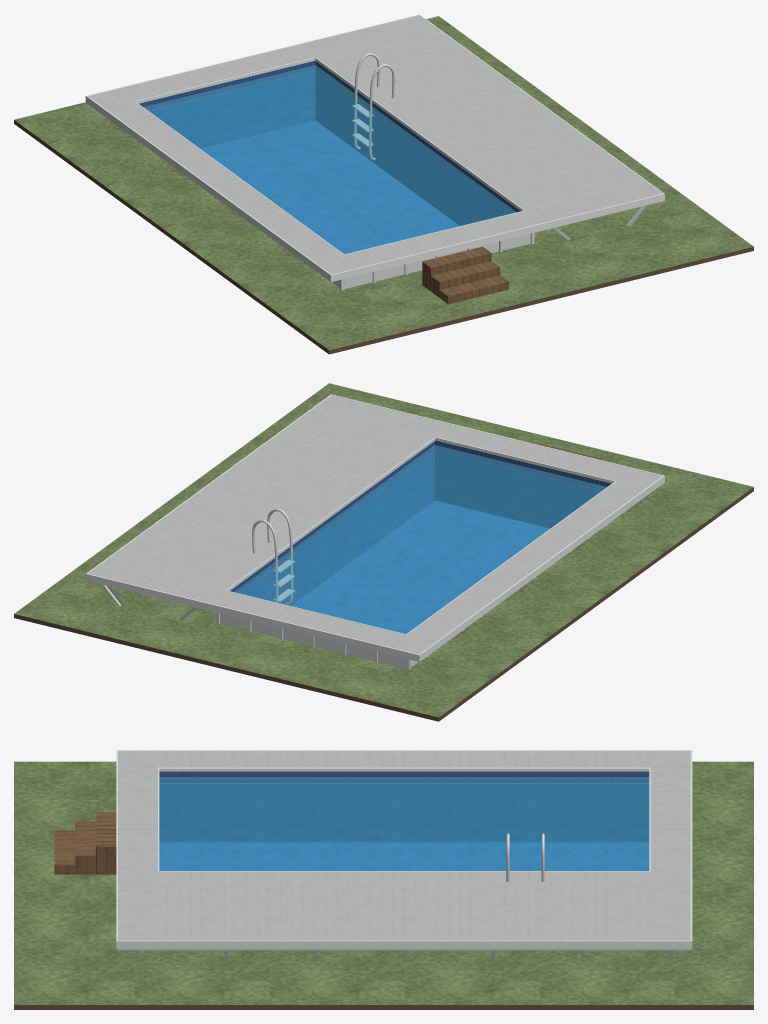
The model's file is kayak-pool-12x24-white-side-rec-nofence.f2be58dffe.glb.
The picture shows the model from 3 angles, top to bottom: view 1: azimuth 30°, elevation 25°; view 2: azimuth 150°, elevation 25°; view 3: azimuth 270°, elevation 25°; orthographic projection. The views are drawn at different scales.
Parts seen in each view (by area): view 1: ground, deck, water, liner_wall, liner_floor, fascia, soil, steps, wall, steel; view 2: ground, deck, water, liner_wall, liner_floor, fascia, soil, wall, steel; view 3: ground, deck, water, liner_wall, liner_floor, fascia, soil, steps, stud.
Boxes of the visible parts, box(x1,y1,x2,y2) form: ground: box(14, 16, 753, 350); deck: box(88, 15, 662, 274); water: box(143, 65, 516, 254); liner_wall: box(139, 61, 520, 225); liner_floor: box(201, 120, 459, 254); fascia: box(85, 14, 664, 282); soil: box(14, 120, 753, 354); steps: box(422, 246, 508, 304); wall: box(332, 233, 530, 288); steel: box(352, 53, 395, 160); ground: box(14, 383, 753, 717); deck: box(88, 395, 662, 654); water: box(234, 445, 606, 633); liner_wall: box(230, 440, 611, 605); liner_floor: box(291, 500, 549, 633); fascia: box(85, 394, 664, 661); soil: box(14, 487, 753, 721); wall: box(220, 613, 417, 668); steel: box(252, 508, 294, 604); ground: box(14, 761, 753, 1004); deck: box(118, 751, 690, 940); water: box(159, 777, 649, 870); liner_wall: box(159, 771, 649, 842); liner_floor: box(159, 842, 649, 870); fascia: box(116, 750, 692, 949); soil: box(14, 1005, 753, 1009); steps: box(54, 812, 116, 874); stud: box(118, 949, 690, 961).
Size of the model in its own units: 8.53 by 1.9 by 10.97.
Materials: 12 (5 with a texture image).
